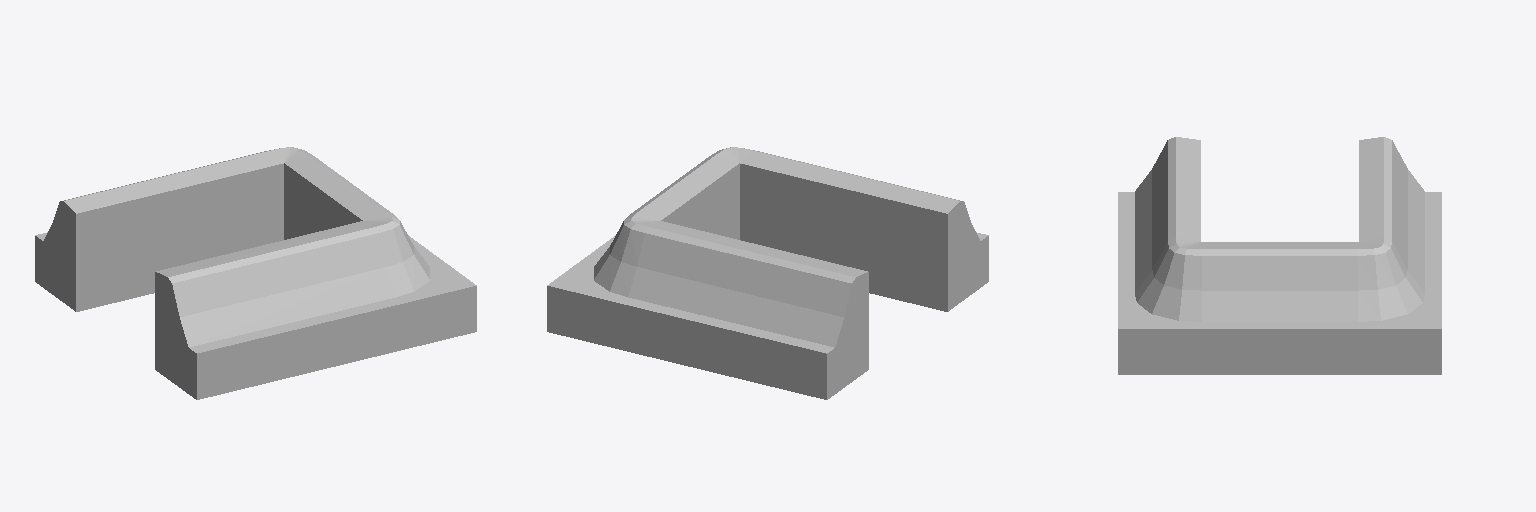
File: OutwardCurvedWall_Lower_3_edges.obj
3 views of the same model, side by side, from view 1: azimuth 30°, elevation 25°; view 2: azimuth 150°, elevation 25°; view 3: azimuth 270°, elevation 25° (orthographic).
Visible parts, largest first — view 1: OutwardCurvedWall_Lower_3_edges export_grp; view 2: OutwardCurvedWall_Lower_3_edges export_grp; view 3: OutwardCurvedWall_Lower_3_edges export_grp.
Boxes of the visible parts, <box> form: OutwardCurvedWall_Lower_3_edges export_grp: <box>35,147,476,399</box>; OutwardCurvedWall_Lower_3_edges export_grp: <box>547,147,988,399</box>; OutwardCurvedWall_Lower_3_edges export_grp: <box>1118,137,1441,374</box>.
Size of the model in its own units: 8 by 2.78 by 8.